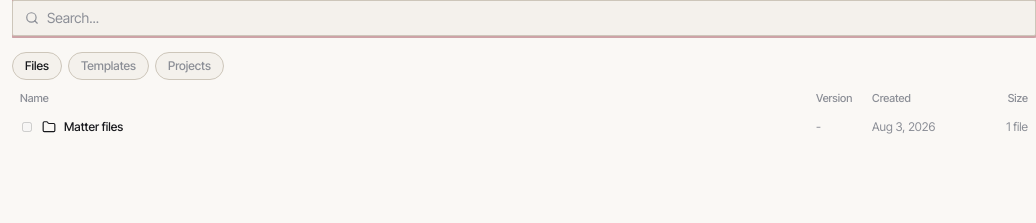
Test: FileDirectory › renders folders on the files tab
The width and height of the screenshot is (1036, 223).
Expected: the text "Library agreement.pdf" is not shown
Click the text "Matter files": (94, 126) [64,118,123,134]
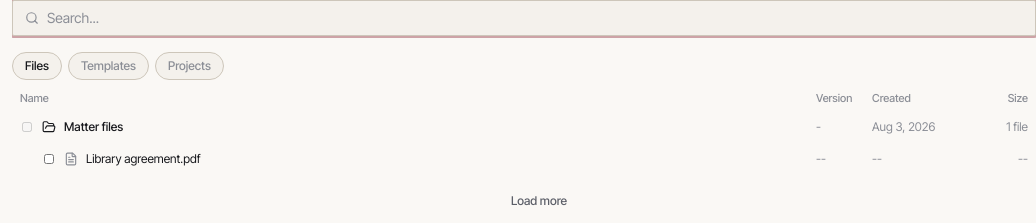
Expected: the text "Library agreement.pdf" is shown, [86,150,200,166]
